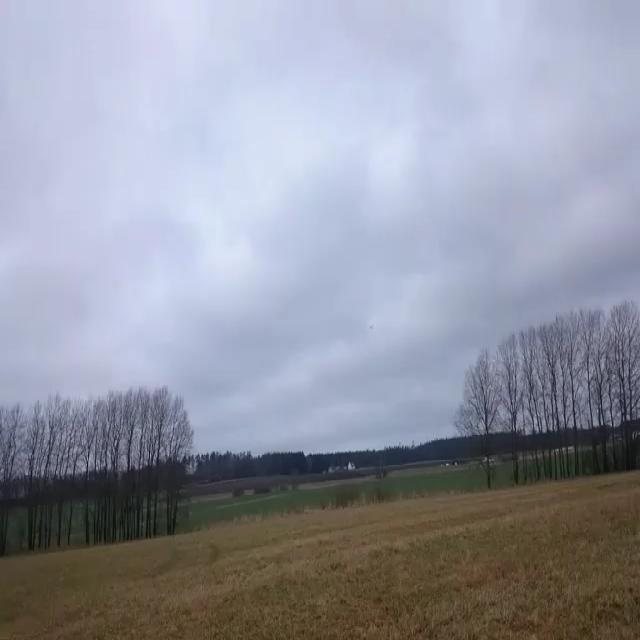Drone: (359, 315, 387, 339)
